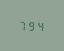four: (35, 20, 42, 31)
nine: (27, 19, 34, 31)
seven: (18, 19, 25, 30)
